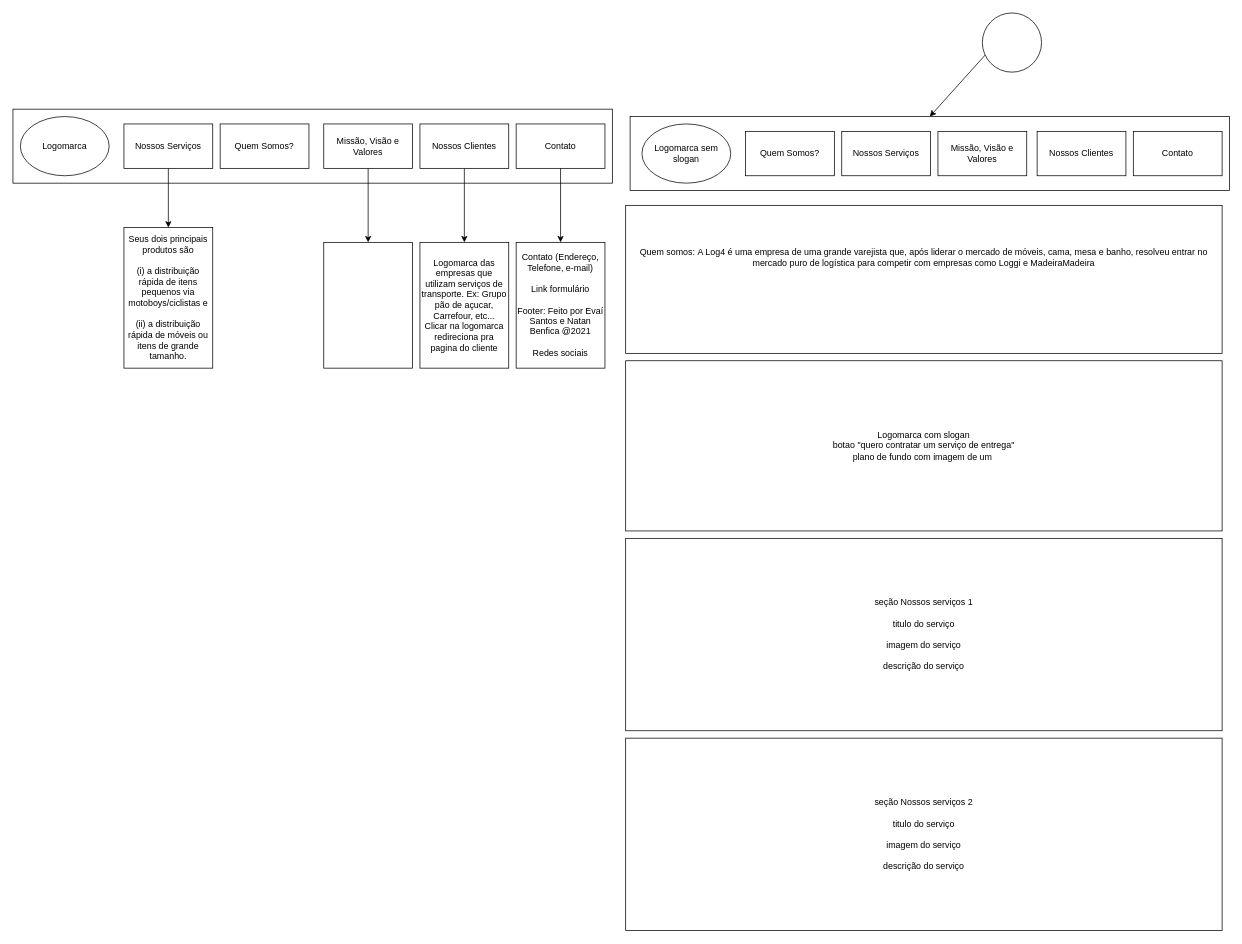
Image size: 1242x944. Some labels were removed from this diagram. Here are the shapes that lost their labels. From the top down, the centre of each, then its label:
At point (1012, 42): "Footer fixo ao scrollar".
At point (368, 305): "Missão Visão Valores Usar base da empresa: http://www.grupolibra.com.br/".
